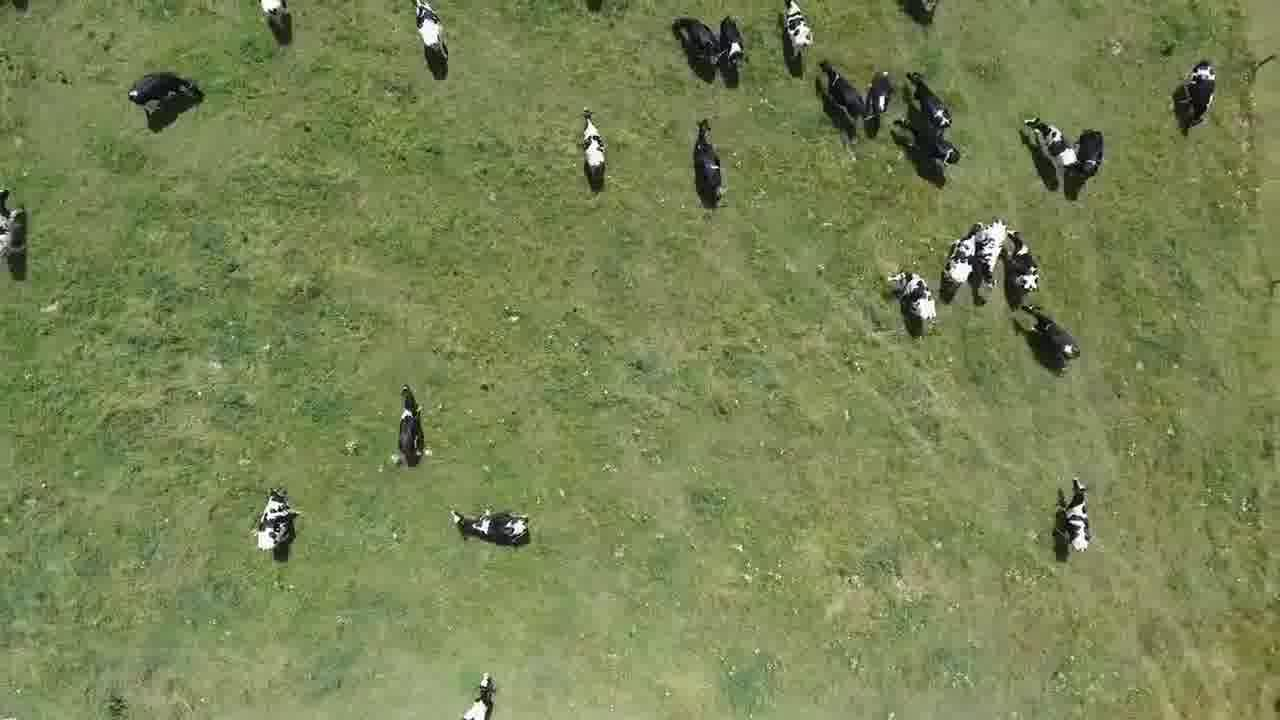cow: (247, 486, 312, 555), (443, 500, 536, 546), (685, 115, 730, 207), (124, 67, 207, 115), (391, 378, 433, 469), (813, 55, 868, 124), (936, 218, 985, 295), (883, 264, 940, 329), (895, 119, 967, 169), (1023, 303, 1081, 364), (406, 0, 457, 67), (1054, 478, 1095, 558), (901, 66, 953, 128), (668, 12, 721, 72), (1177, 56, 1221, 128), (1020, 115, 1076, 170), (0, 180, 34, 263), (575, 108, 609, 184), (975, 213, 1008, 289), (780, 0, 816, 67), (1007, 232, 1043, 297), (459, 667, 501, 720), (1072, 123, 1108, 183), (257, 0, 302, 42), (862, 67, 900, 115), (718, 15, 749, 71)
